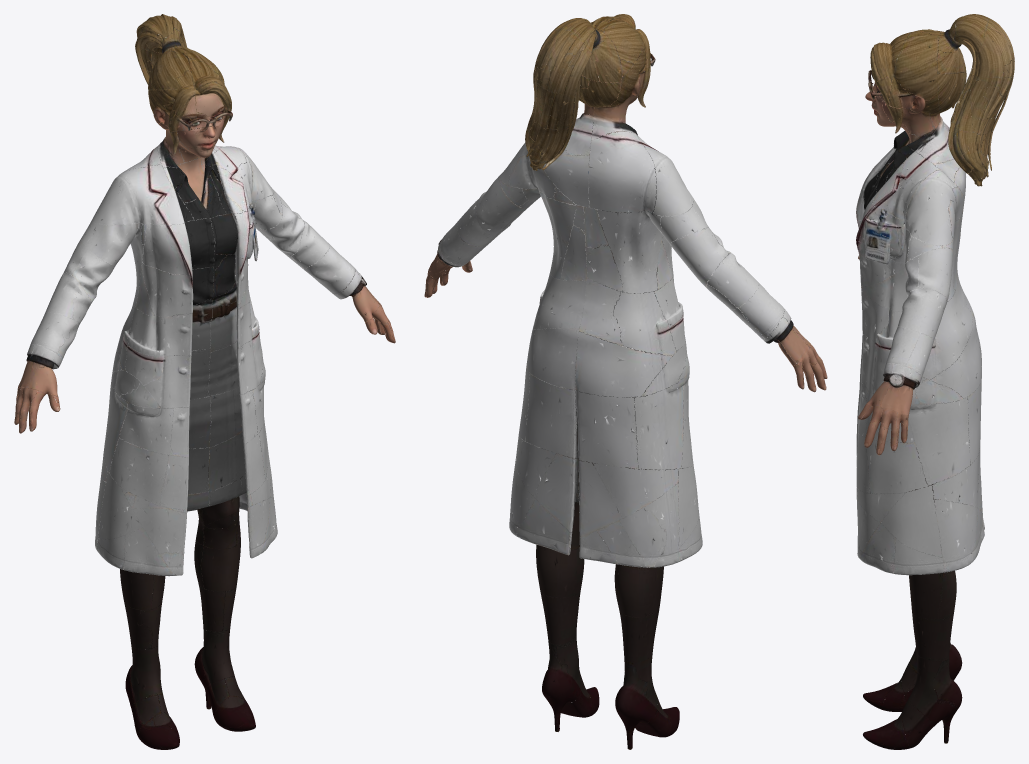
Rendered from dra.glb.
The picture shows the model from 3 angles, left to right: view 1: azimuth 30°, elevation 25°; view 2: azimuth 150°, elevation 25°; view 3: azimuth 270°, elevation 25°; orthographic projection. The views are drawn at different scales.
Parts seen in each view (by area): view 1: mesh_node; view 2: mesh_node; view 3: mesh_node.
Part boxes in pixels (box(x1,y1,x2,y2)): mesh_node: box(14, 14, 395, 749); mesh_node: box(424, 14, 827, 749); mesh_node: box(856, 14, 1014, 749).
Bounding box in the file's own units: 1.08 × 1.9 × 0.3849.
1 material, 1 textured.
